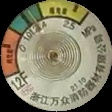green: (11, 5, 43, 34)
needle: (28, 9, 47, 37)
red: (2, 30, 23, 79)
yellow: (40, 1, 91, 25)
